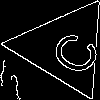C: (39, 23, 100, 80)
